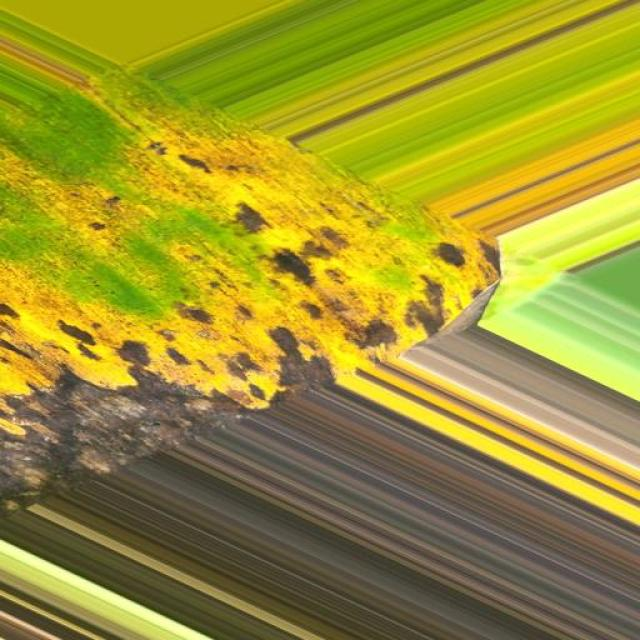Early_rust: (0, 49, 477, 489)
